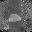people: (8, 14, 21, 22)
